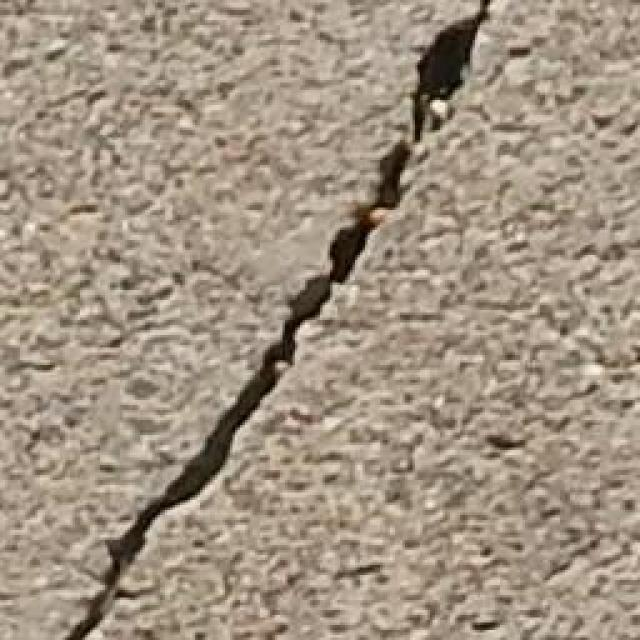concrete-crack: (60, 0, 511, 637)
